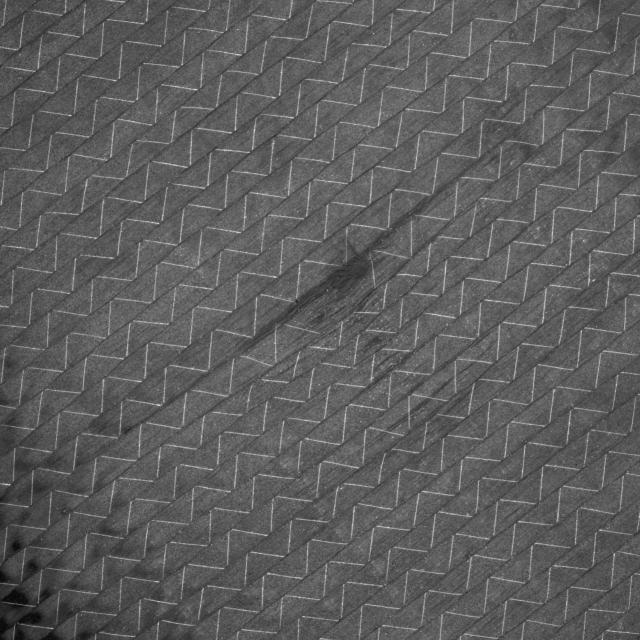carbon-fibre-defect: (200, 162, 490, 415), (363, 328, 510, 458), (346, 307, 427, 388)
